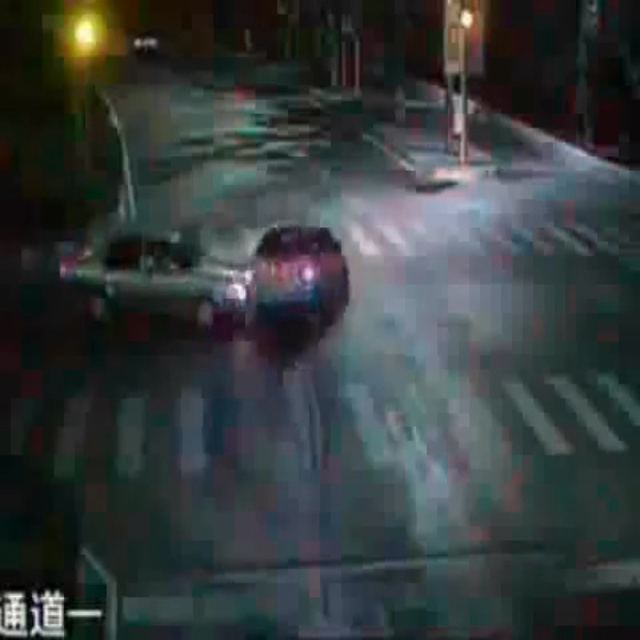acc: (59, 217, 354, 347)
